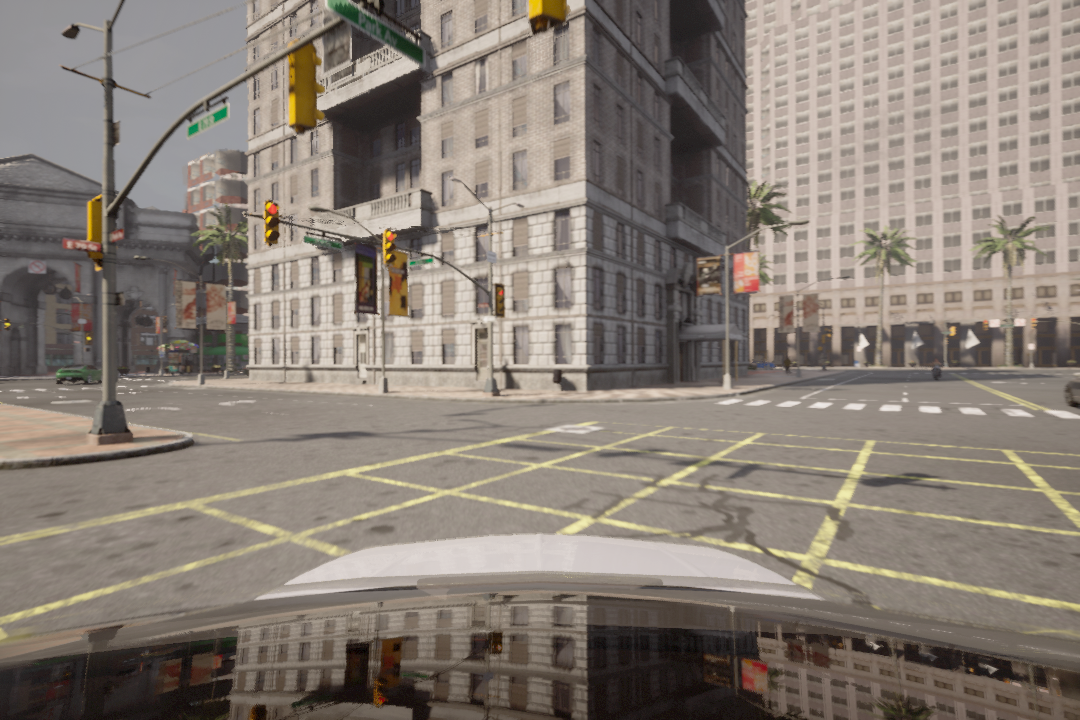TrafficLight: (381, 225, 399, 269), (265, 198, 280, 245), (494, 282, 510, 318)
walkside: (721, 395, 1080, 435)
